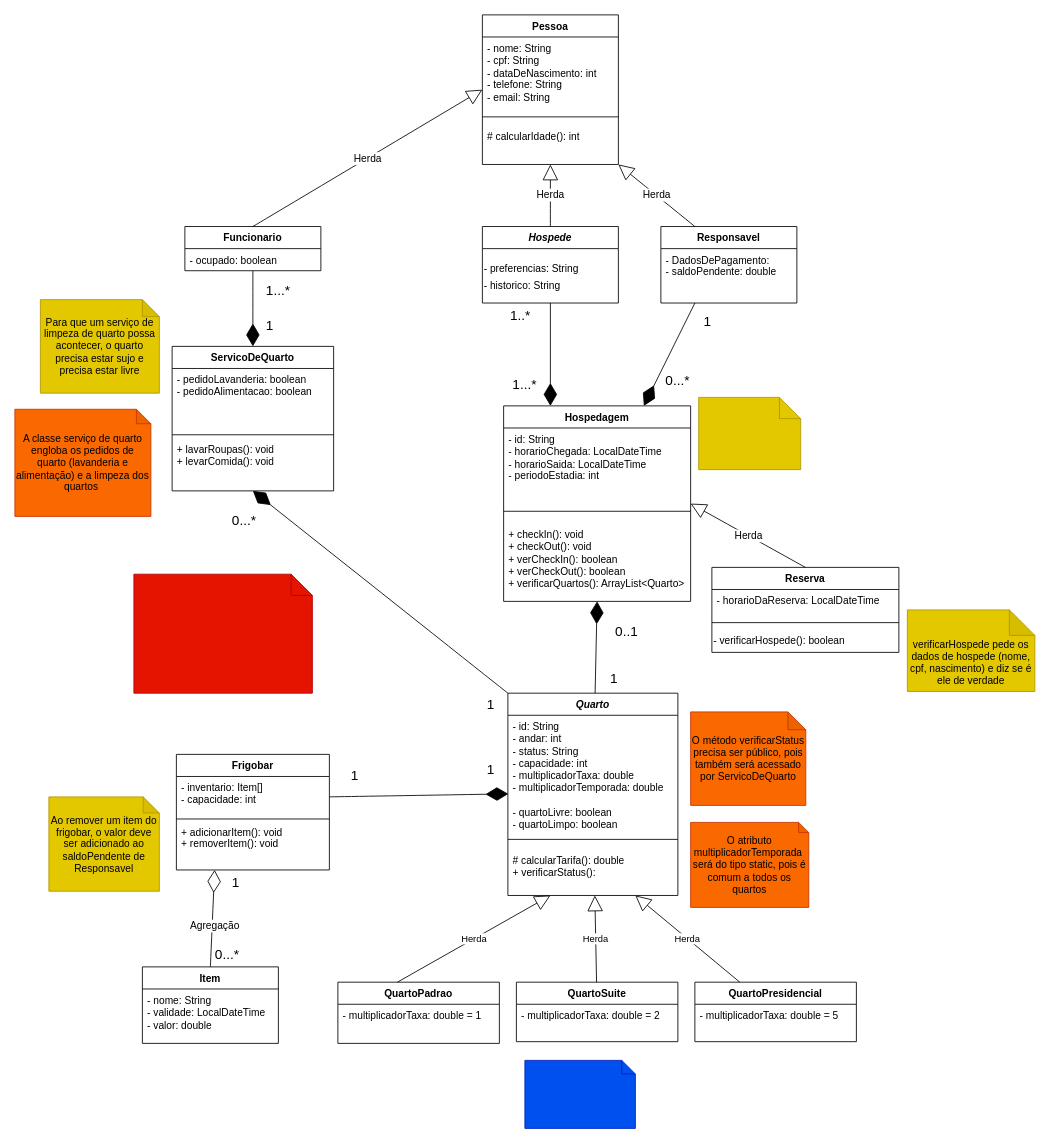
Some shapes in this 1050 by 1143 pixel diagram are drawn without their labels. Each missing label, with the centre of its shape:
"cheacagem de checkIO será feita se checkIO != null" goes at [749,433].
"Depois a gente descobre o formato de tempo certo." goes at [579,1094].
"REVER PRIVACIDADE DOS ATRUBTOS E MÉTODOS !!!!!" goes at [222,633].
